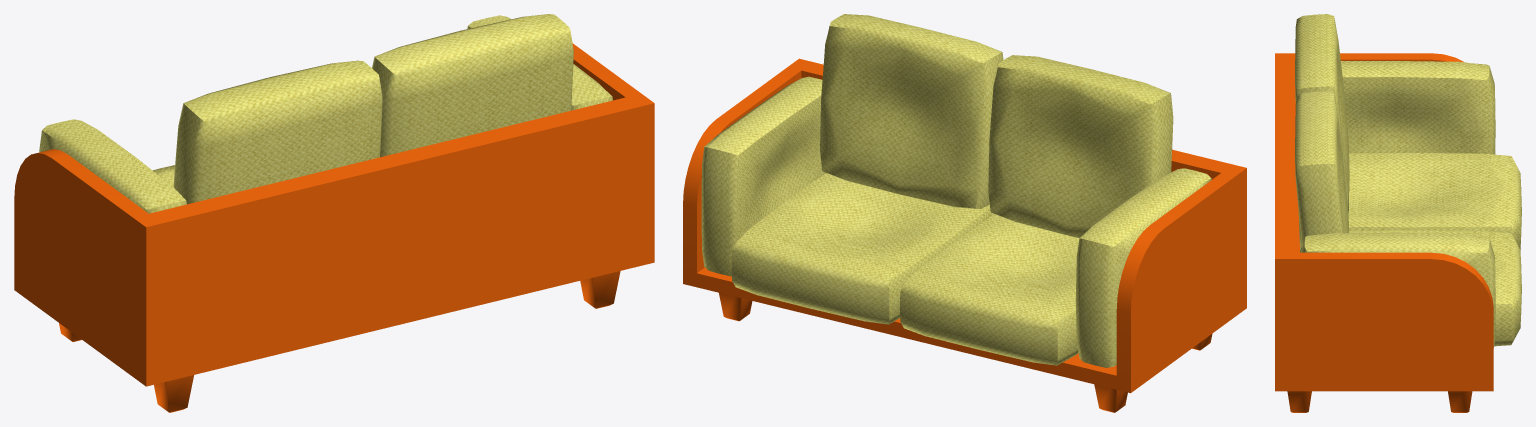
Rendered from furniture_seating_210077.glb.
3 renders of one model, left to right at view 1: azimuth 30°, elevation 25°; view 2: azimuth 150°, elevation 25°; view 3: azimuth 270°, elevation 25°, orthographic. The views are drawn at different scales.
Parts seen in each view (by area): view 1: furniture_seating_210077; view 2: furniture_seating_210077; view 3: furniture_seating_210077.
Part boxes in pixels (x1,y1,x2,y2): furniture_seating_210077: (14,14,654,412); furniture_seating_210077: (683,14,1246,412); furniture_seating_210077: (1275,14,1521,412).
Bounding box in the file's own units: 1.61 × 0.8773 × 0.8179.
1 material, 1 textured.
